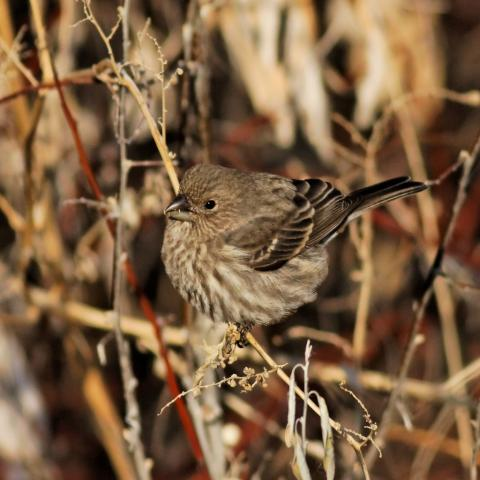bird: (158, 160, 430, 337)
